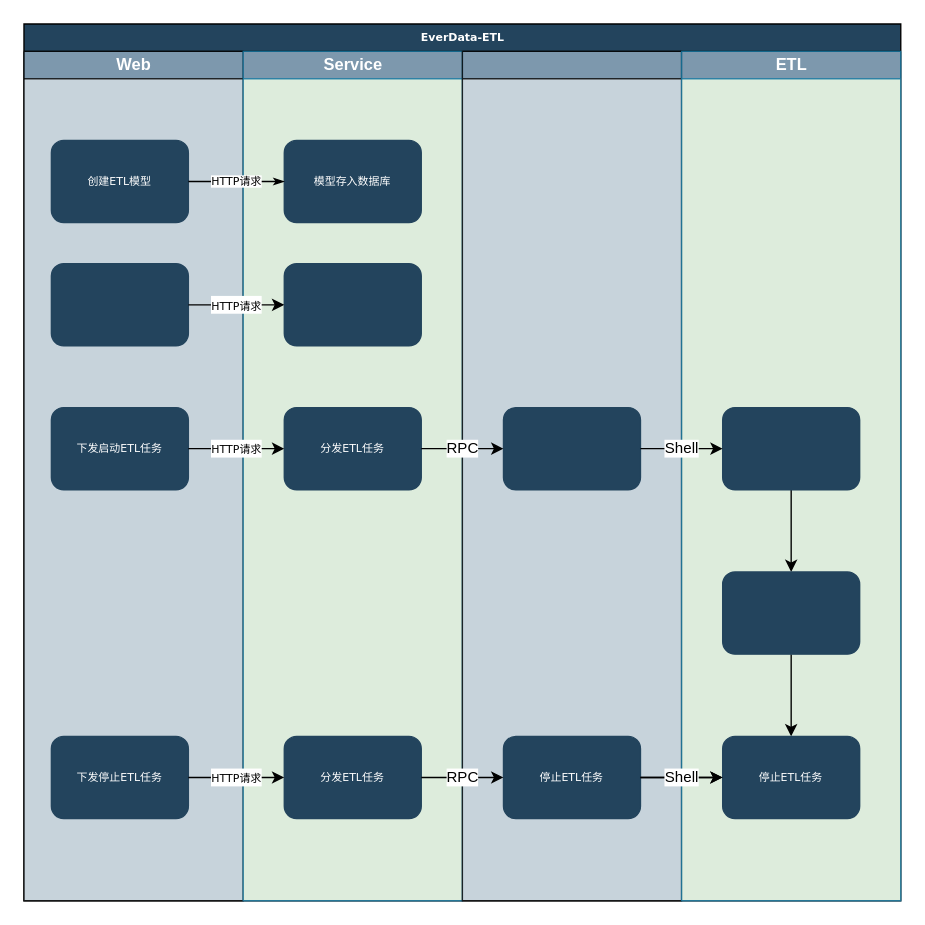
This 925x925 diagram has some shape labels left out. Here are the shapes that lost their labels. From the top down, the box of each, then its label:
(50, 262, 188, 346): 获取Agent列表
(283, 262, 421, 346): 查询数据库Agent信息
(502, 406, 640, 490): 启动ETL任务
(721, 406, 860, 490): 从数据库读取配置
(461, 50, 682, 901): Agent
(721, 571, 860, 654): 运行ETL任务
